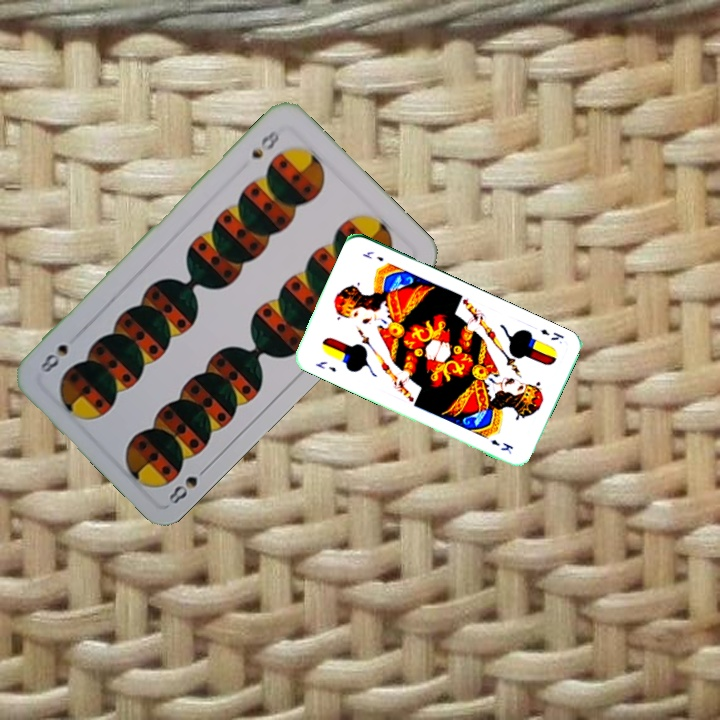EK: (536, 325, 567, 343), (311, 357, 339, 375)
S8: (164, 461, 213, 507), (247, 126, 282, 162)
